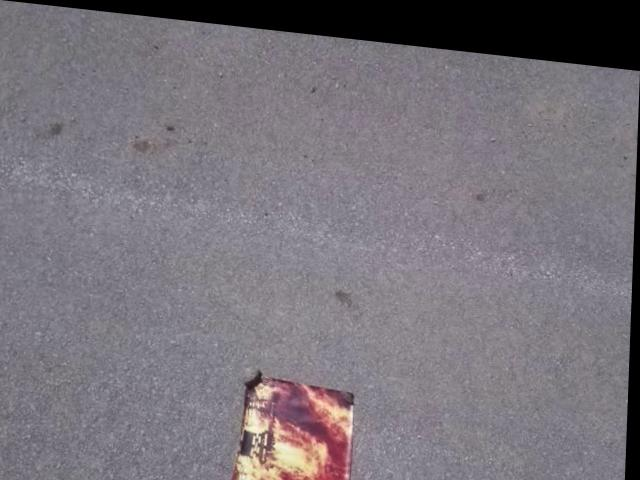fire-poster: (229, 361, 361, 480)
